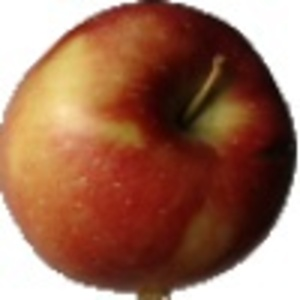maçã braeburn: (1, 1, 297, 288)
